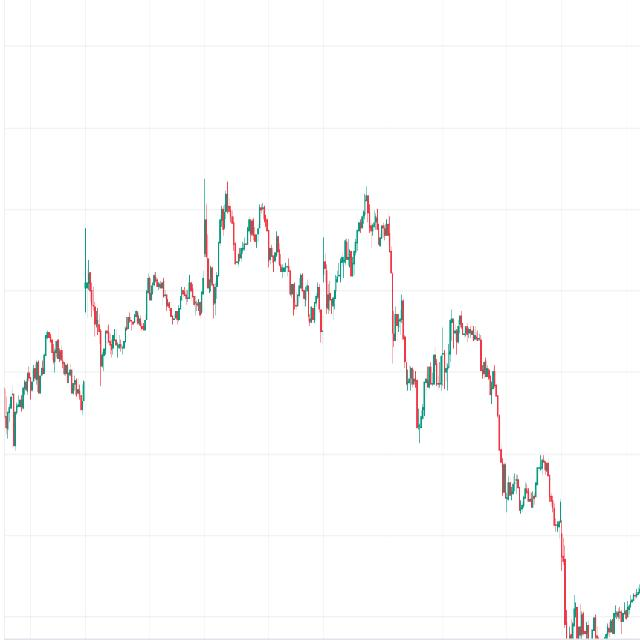Rounding-Top: (418, 268, 505, 434)
